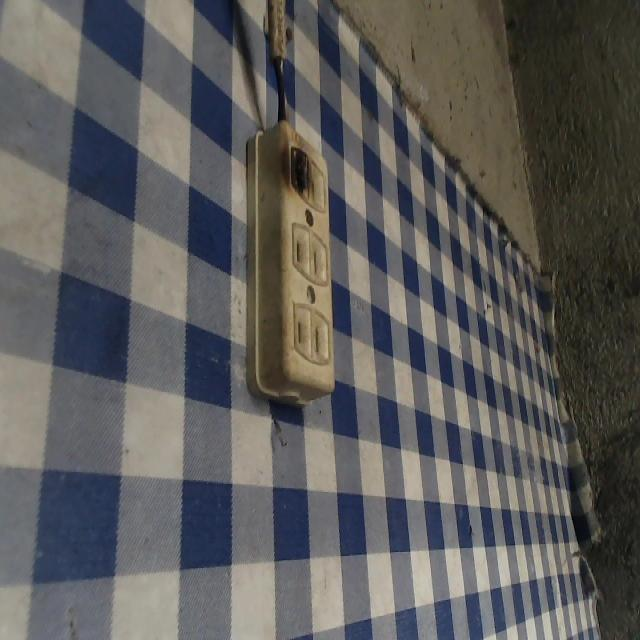-: (279, 139, 311, 201)
